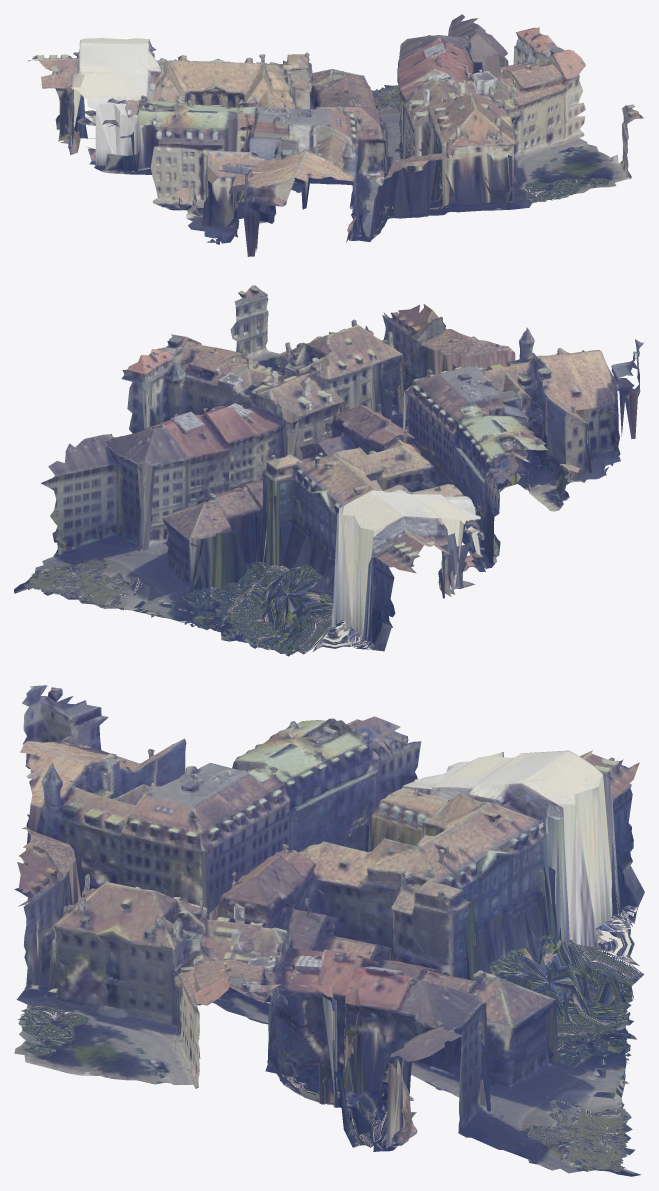
3 views of the same model, one above another, from view 1: azimuth 30°, elevation 25°; view 2: azimuth 150°, elevation 25°; view 3: azimuth 270°, elevation 25° (orthographic). The views are drawn at different scales.
Bounding box in the file's own units: 107 × 43.33 × 106.
Materials: 1 (1 with a texture image).
